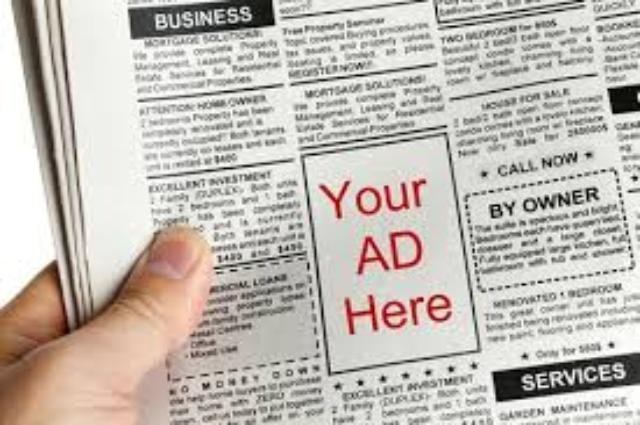cardboard paper: (12, 0, 640, 425)
